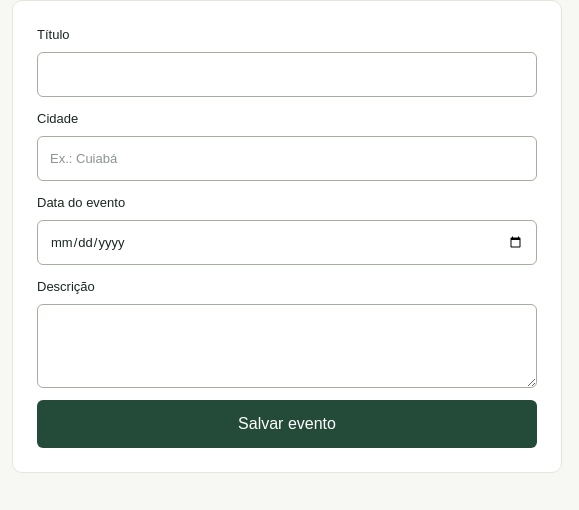
Test case: limpa campos e gera um novo registro somente após confirmação do salvamento
This screenshot has width=579, height=510.
Type "Meu rascunho" into the field labelled "Título". click: point(287, 74)
box: 37,52 -> 537,97
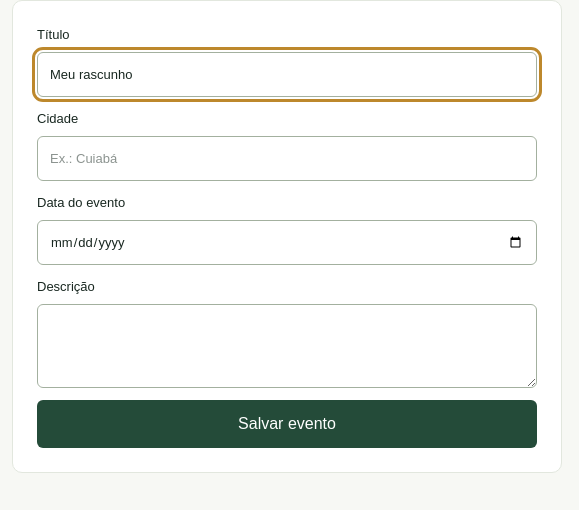
Type "Cuiabá" into the field labelled "Cidade". click: point(287, 158)
box: 37,136 -> 537,181
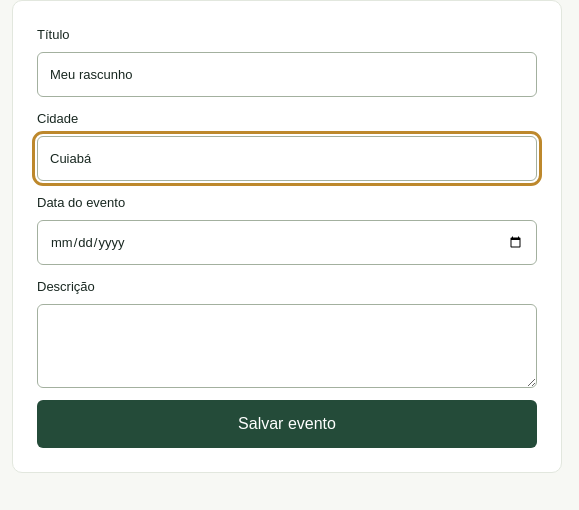
Type "2026-10-14" into the date field labelled "Data do evento". click: point(287, 242)
box: 37,220 -> 537,265
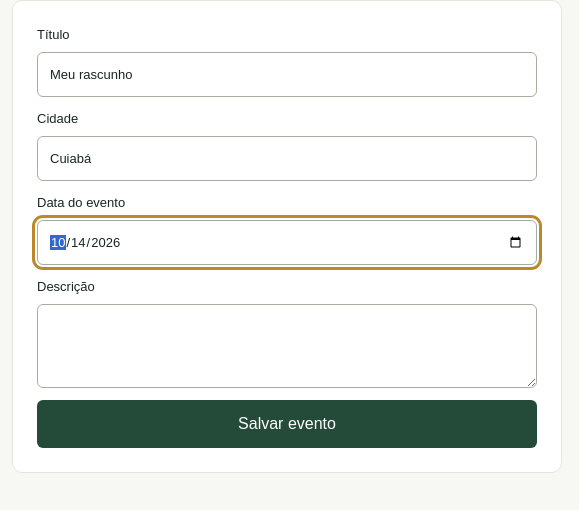
Type "Detalhes ainda não confirmados" into the text box labelled "Descrição". click: point(287, 346)
box: 37,304 -> 537,388
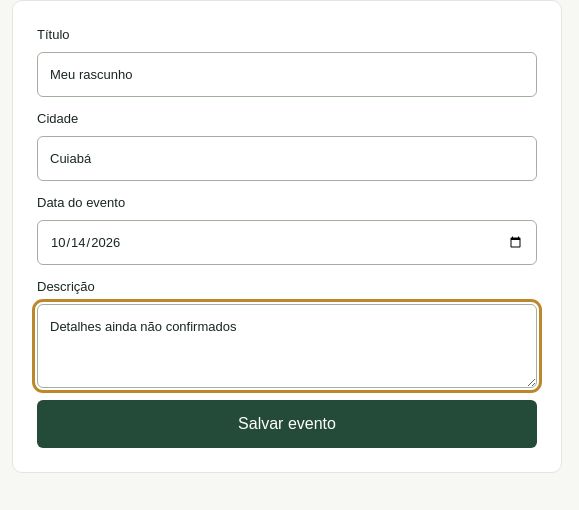
Click the button "Salvar evento". click: point(287, 424)
box: 37,400 -> 537,448
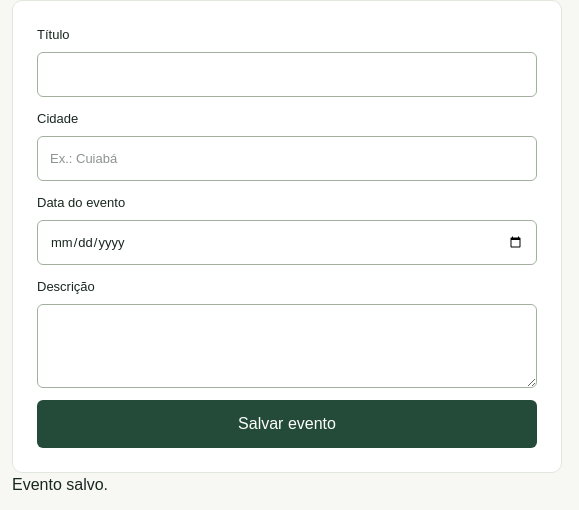
Expected: the message "Evento salvo." is shown, 12,476 -> 108,493
Expected: the field labelled "Título" is empty, 37,52 -> 537,97
